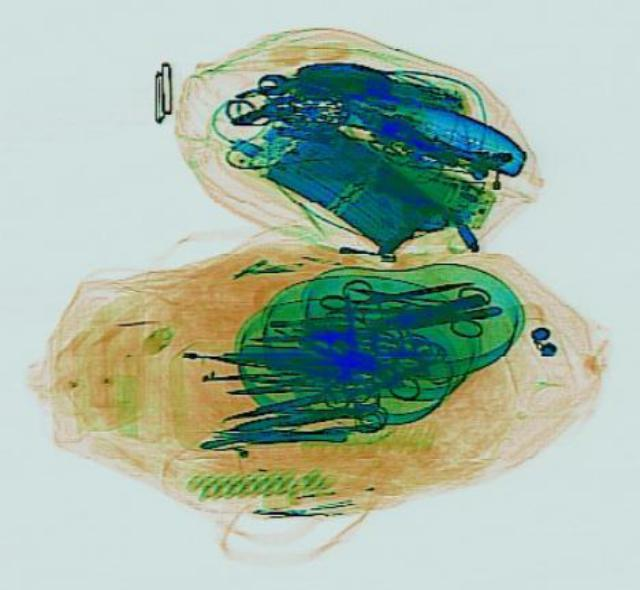Scissors: (338, 261, 492, 339), (315, 267, 469, 311)
